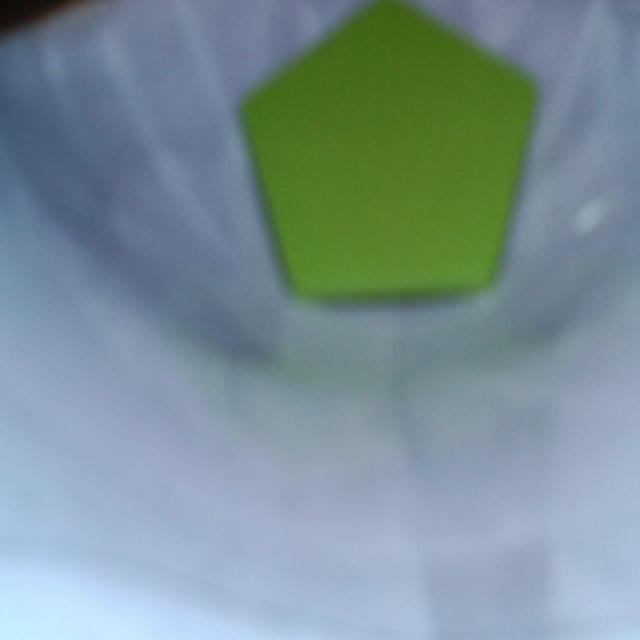pentagon: (243, 0, 536, 300)
